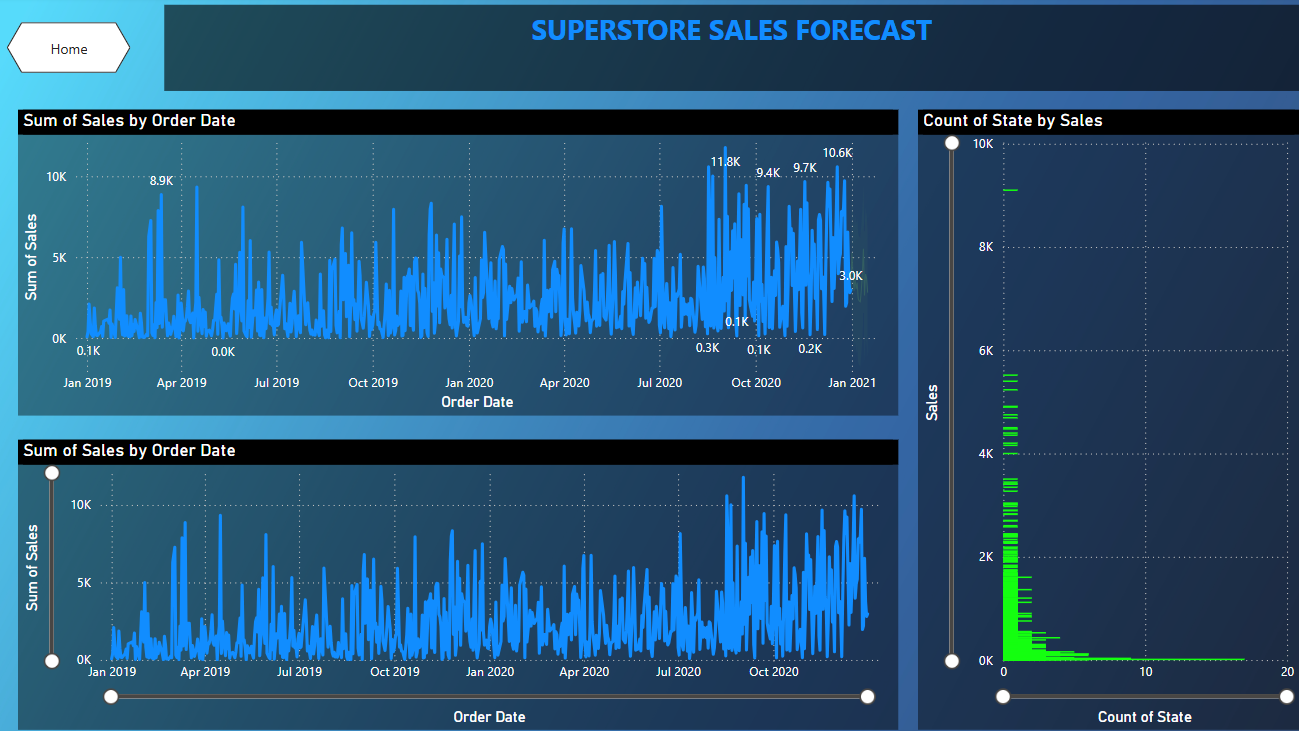

The dashboard page shown, as its layout file describes it:
{"tool":"powerbi","page":{"name":"Forecast","canvas":[1280,720],"ordinal":1},"visuals":[{"type":"lineChart","fields":{"Y":["Sum(SuperStore_Sales_Dataset.Sales)"],"Category":["SuperStore_Sales_Dataset.Order Date"]},"box":[19.3,109.8,849.3,295.6],"z":0},{"type":"lineChart","fields":{"Y":["Sum(SuperStore_Sales_Dataset.Sales)"],"Category":["SuperStore_Sales_Dataset.Order Date"]},"box":[19.3,428.3,849.3,279.9],"z":1000},{"type":"barChart","fields":{"Y":["CountNonNull(SuperStore_Sales_Dataset.State)"],"Category":["SuperStore_Sales_Dataset.Sales"]},"box":[887.9,109.8,368,598.4],"z":2000},{"type":"textbox","box":[160.5,8.4,1095.4,83.2],"z":3000},{"type":"pageNavigator","box":[8.4,25.3,120.6,49.5],"z":3001}]}

Visuals, with their boxes in screenshot pixels (x1, y1, x2, y2), scaled from the page's 1280x720 canvas onto the 1299x731 screenshot:
lineChart - Sum(SuperStore_Sales_Dataset.Sales) x SuperStore_Sales_Dataset.Order Date: (20,111,881,412)
lineChart - Sum(SuperStore_Sales_Dataset.Sales) x SuperStore_Sales_Dataset.Order Date: (20,435,881,719)
barChart - CountNonNull(SuperStore_Sales_Dataset.State) x SuperStore_Sales_Dataset.Sales: (901,111,1275,719)
textbox: (163,9,1275,93)
pageNavigator: (9,26,131,76)
